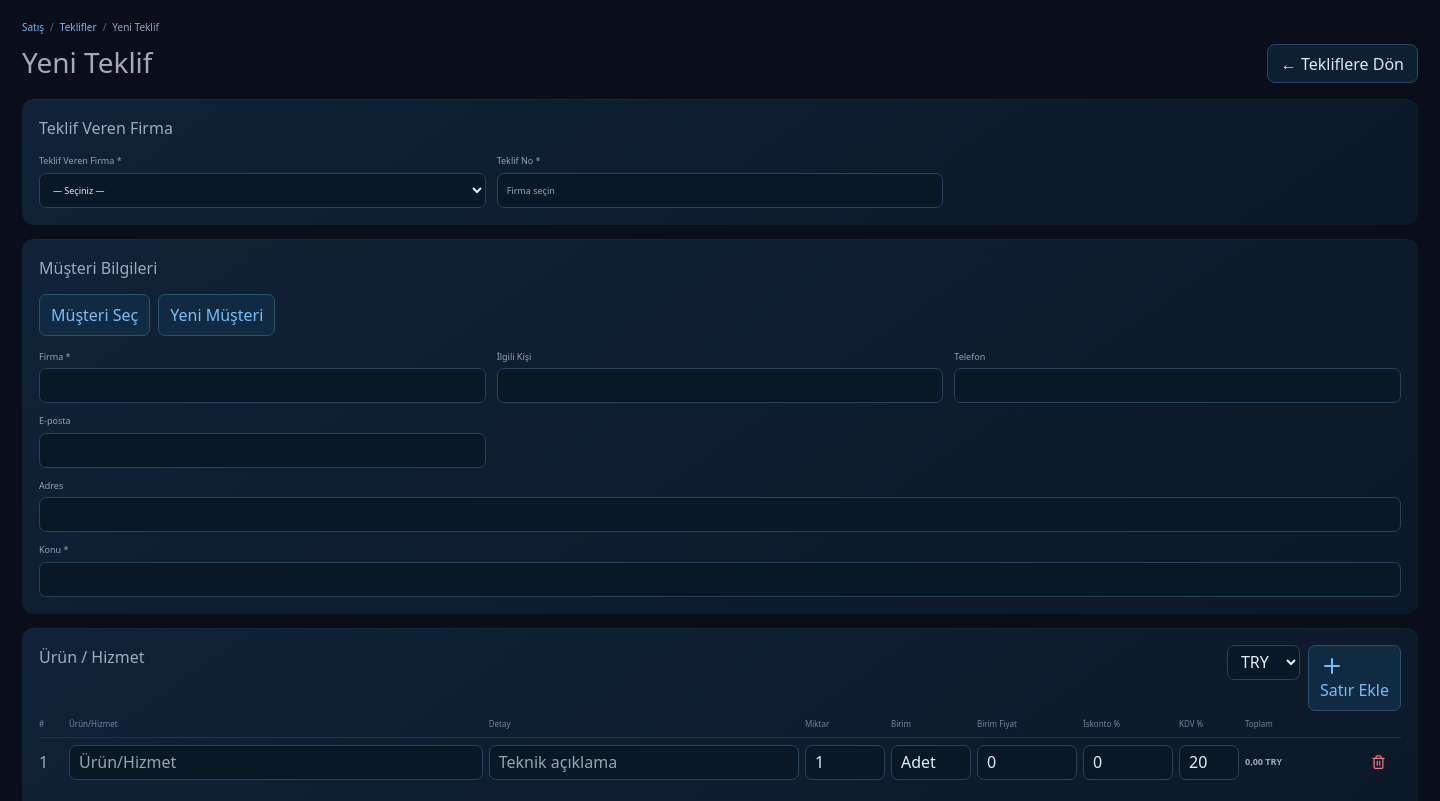
Test: QuoteFormPage — customer flow › creates a new local customer (never written to Parasut) and selects it
The image size is (1440, 801).
Click the button "Yeni Müşteri": {"x": 217, "y": 314} [158, 294, 275, 336]
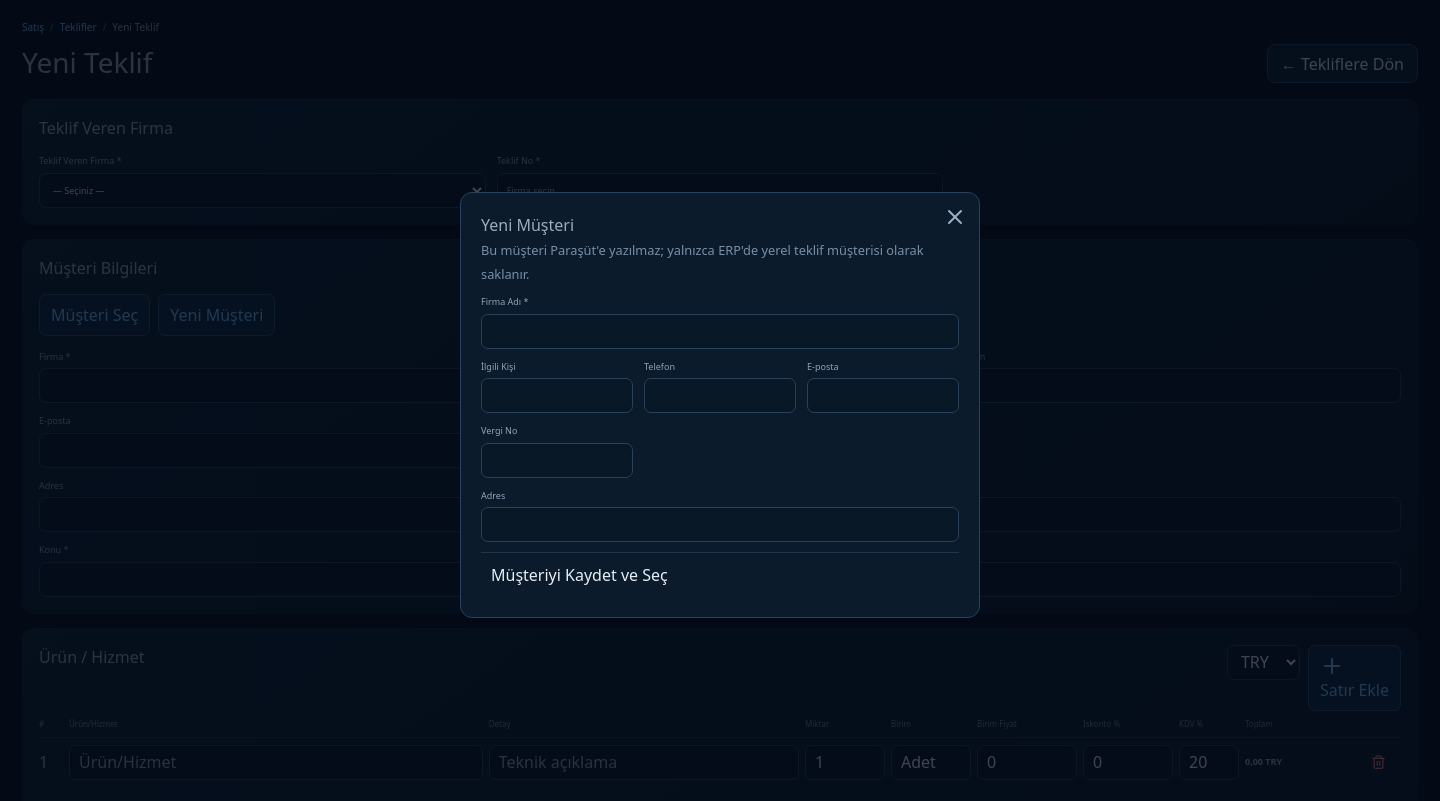
In the field labelled "Firma Adı *": {"x": 720, "y": 331} [481, 314, 959, 348], type "Yeni Firma"
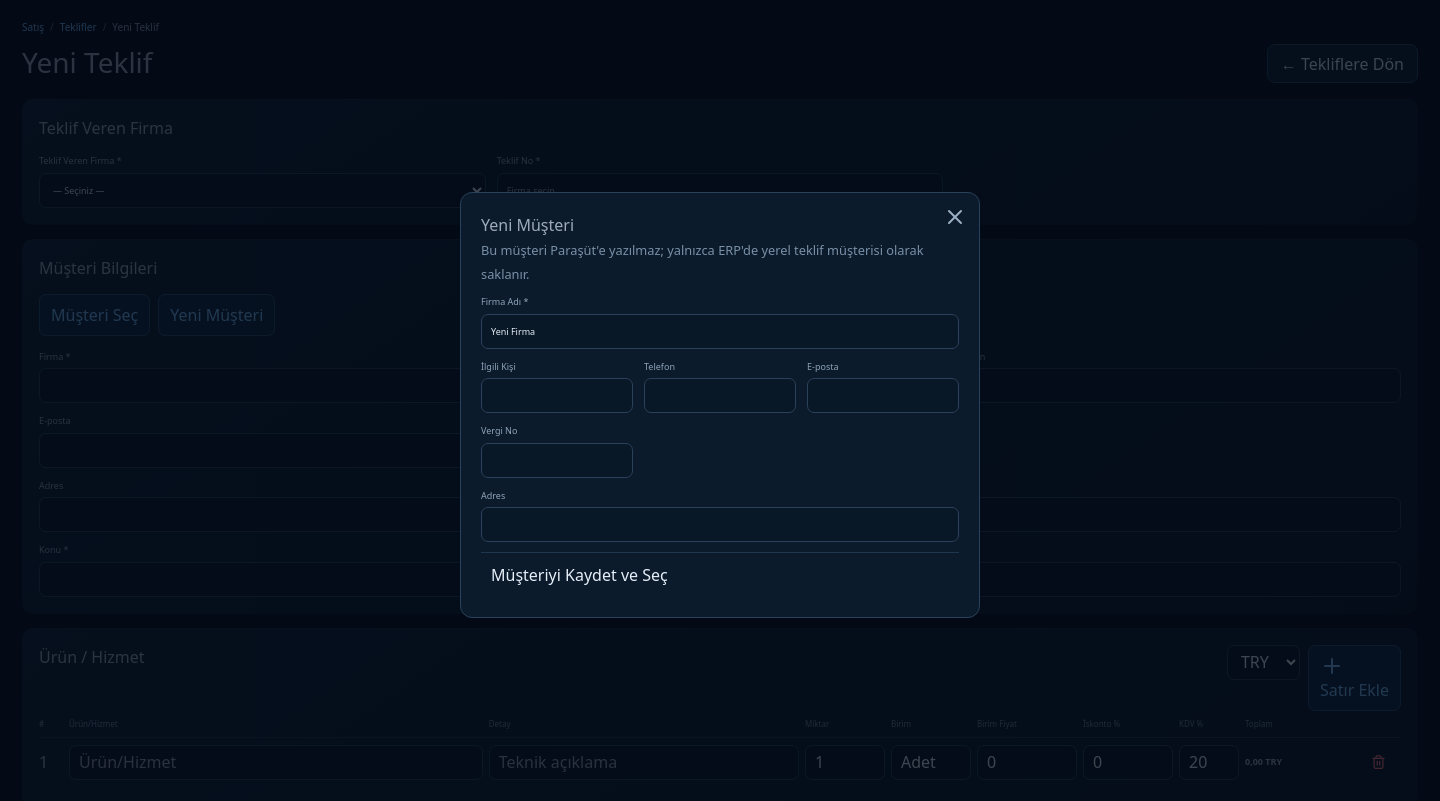
Click the button "Müşteriyi Kaydet ve Seç": {"x": 579, "y": 575} [481, 552, 959, 597]
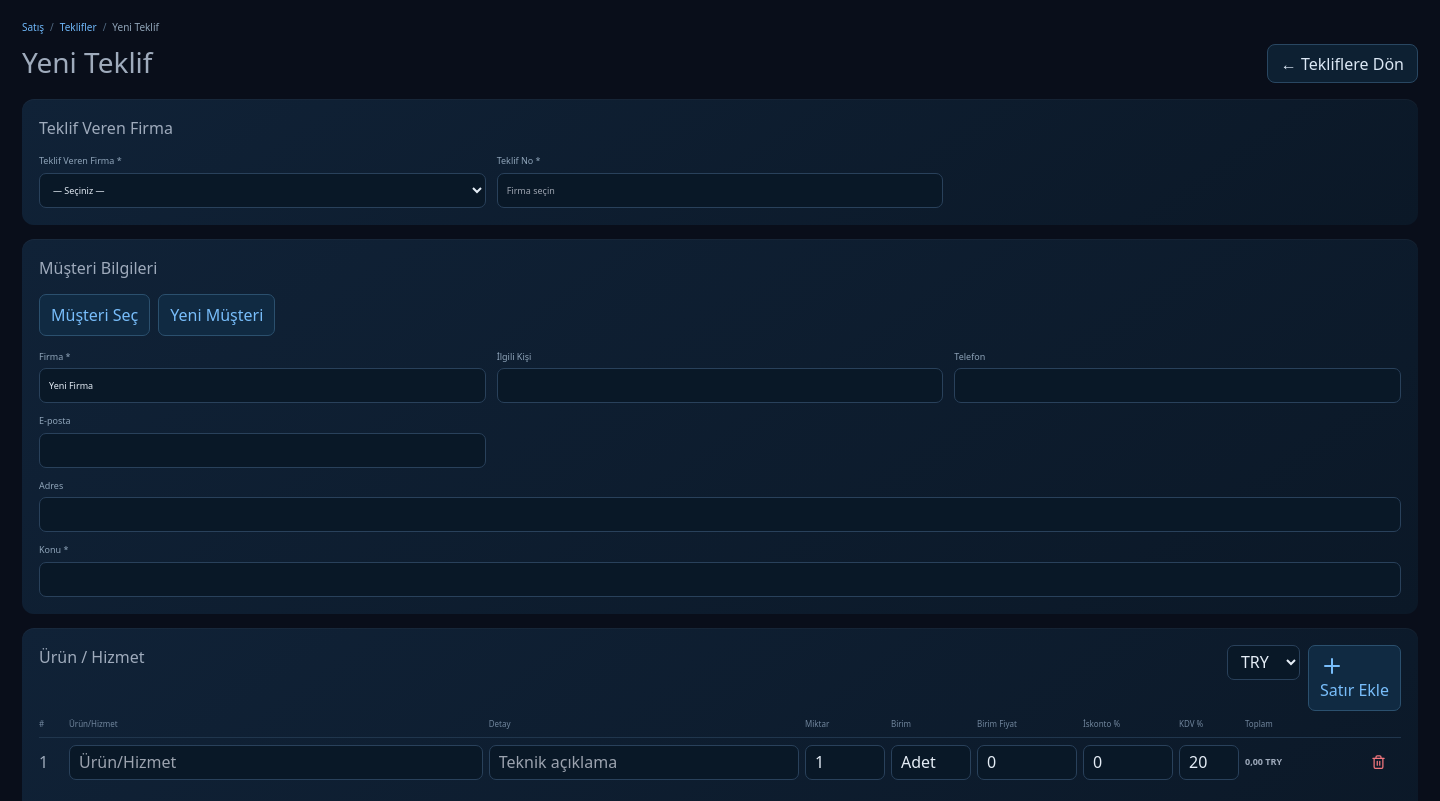
Result: the field showing "Yeni Firma" is shown at [39, 368, 486, 403]
